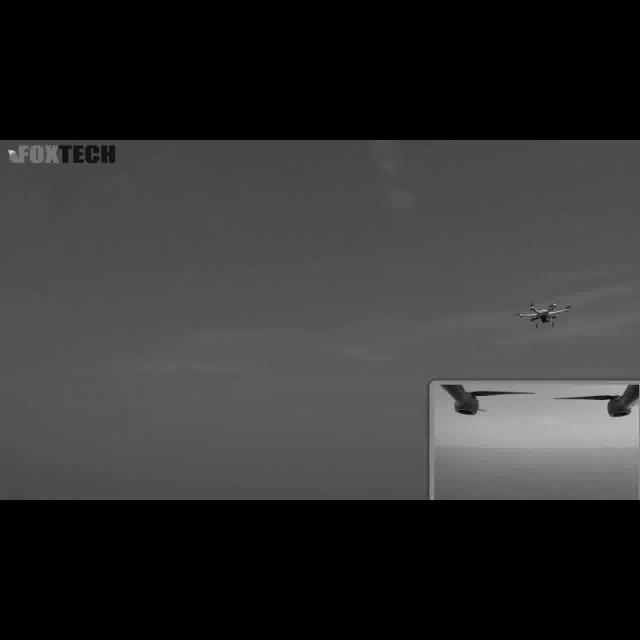Drons: (508, 294, 580, 340)
